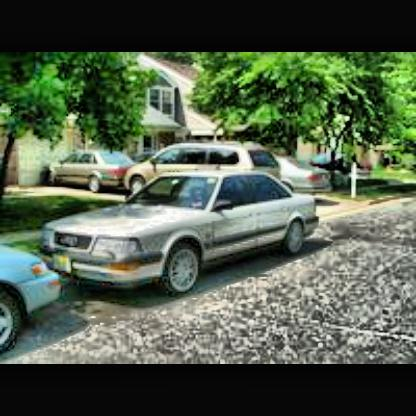Audi V8 Sedan 1994: (47, 172, 323, 303)
